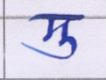u_matra: (26, 37, 80, 60)
